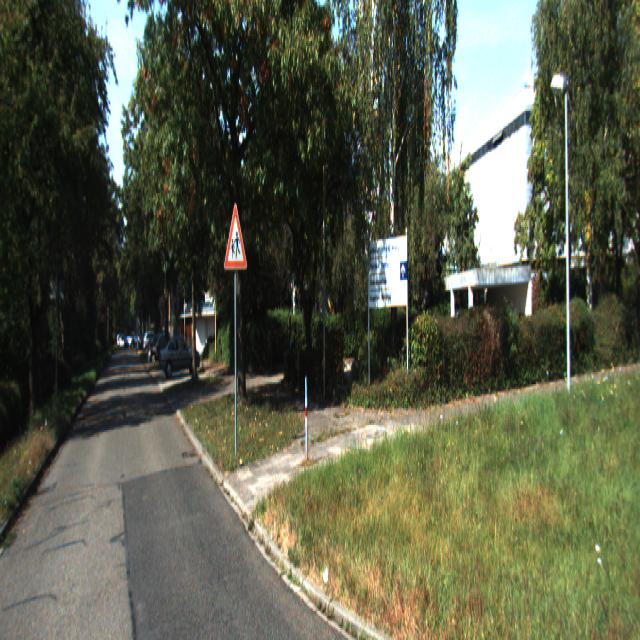Car: (158, 332, 199, 380)
